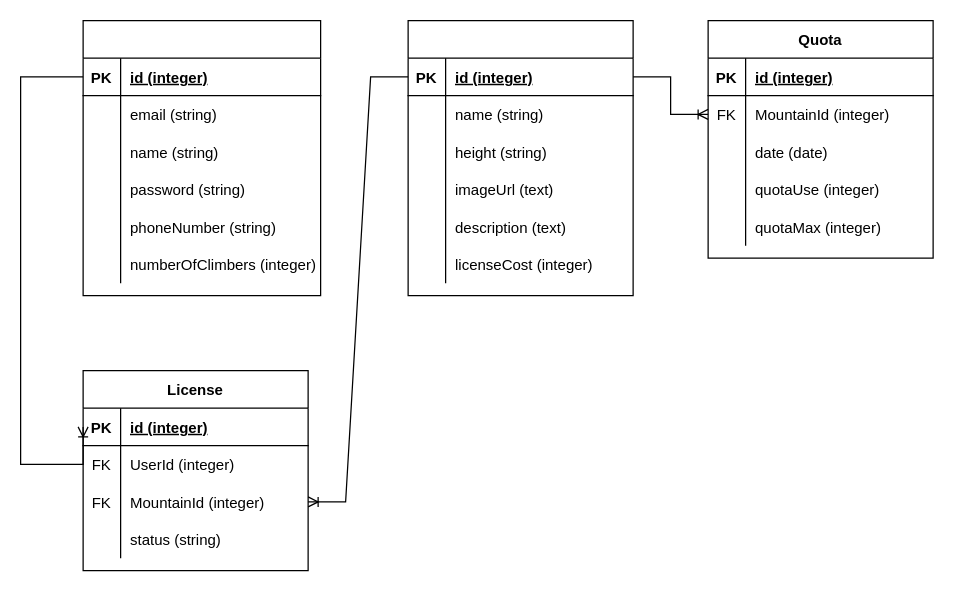
Image size: 954x591. Some labels were removed from this diagram. Each missing label, with the box of its shape:
Mountain: (407, 19, 633, 296)
User: (82, 19, 321, 296)
